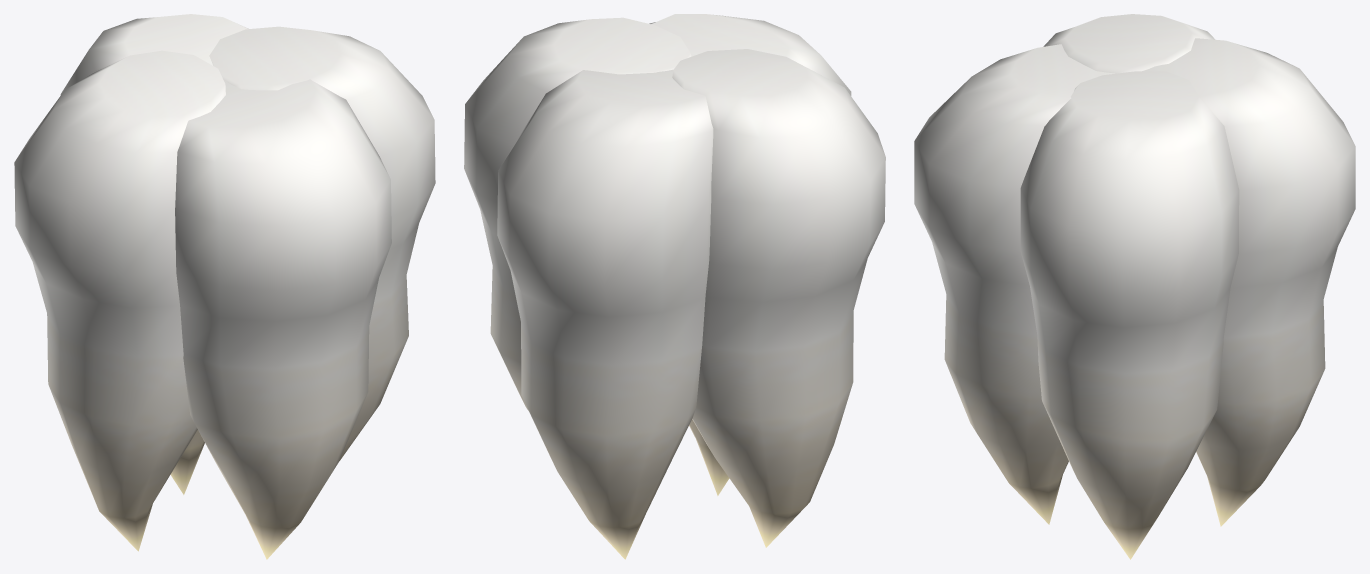
The model's file is Tooth.fbx.
3 renders of one model, left to right at view 1: azimuth 30°, elevation 25°; view 2: azimuth 150°, elevation 25°; view 3: azimuth 270°, elevation 25°, orthographic. The views are drawn at different scales.
Visible parts, largest first — view 1: pCone5; view 2: pCone5; view 3: pCone5.
Part boxes in pixels (box(x1,y1,x2,y2)): pCone5: box(14, 14, 435, 559); pCone5: box(464, 14, 885, 559); pCone5: box(914, 14, 1355, 559).
Bounding box in the file's own units: 2.84 × 3.27 × 2.83.
1 material, 1 textured.
